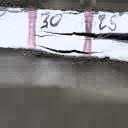crackTip: (32, 27, 128, 45)
